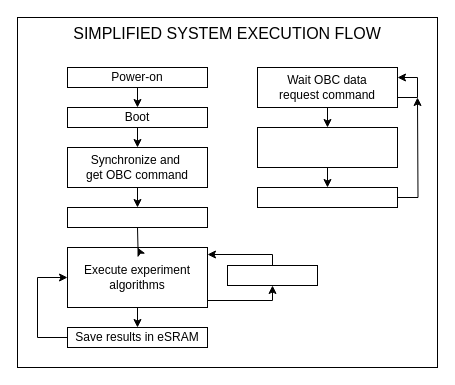
The diagram is 455 pixels wide and 385 high, and some of its shapes have lost their labels. The box of each missing label's shape, as (x1, y1, x2, y2) in pixels:
Check latch-up: (226, 264, 318, 286)
Get experiment results stored in the eSRAM: (256, 126, 398, 168)
Prepare experiment: (66, 206, 208, 228)
Send data to OBC: (256, 186, 398, 208)
